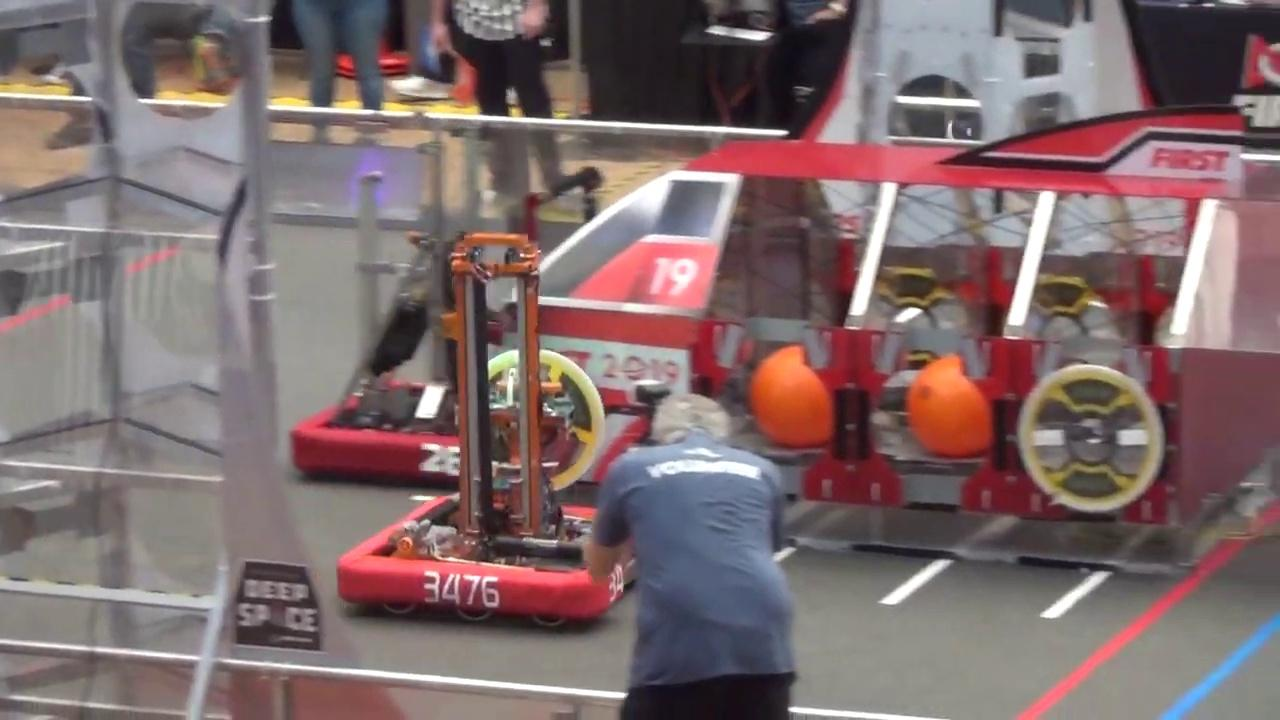robot: (333, 233, 634, 629), (289, 160, 524, 483)
